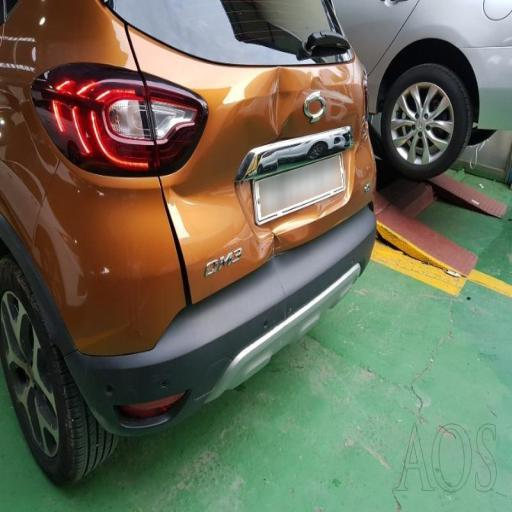broken: (140, 36, 379, 307)
